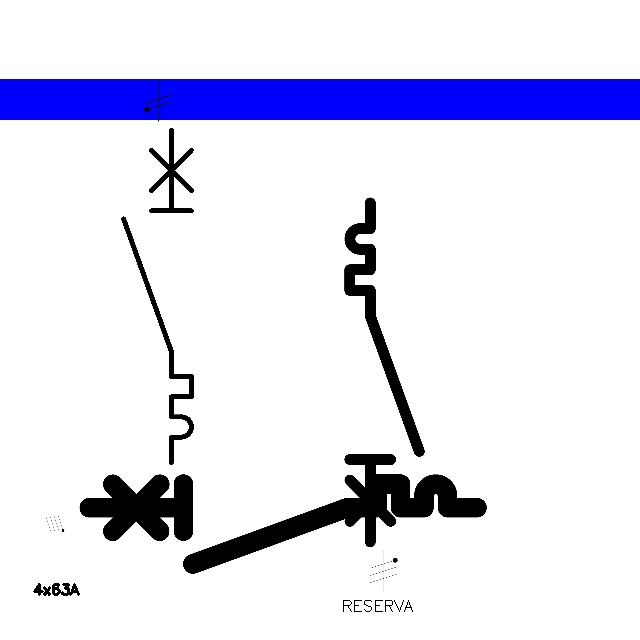interruptor_termomagnetico: (79, 474, 487, 574), (341, 194, 428, 550), (115, 121, 200, 470)
